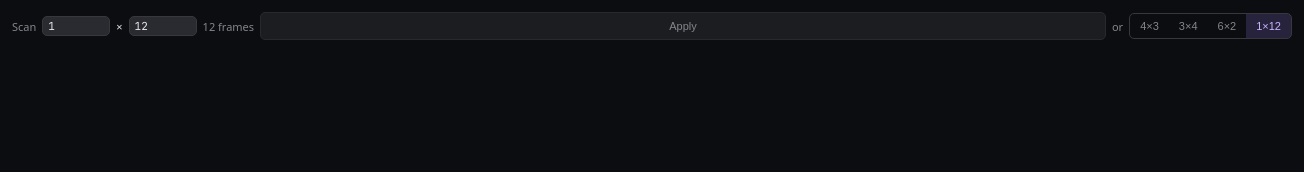
it: FourDScanShape › refuses — and explains — a shape that is not the frame count
Replace the text in the number field named "Scan rows" with "5" at (76, 26), box x1=42 y1=16 x2=110 y2=36
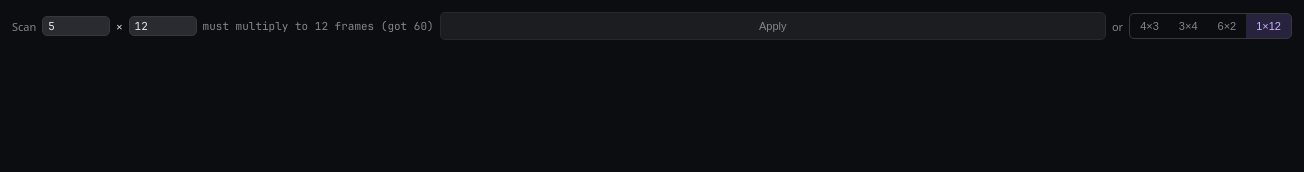
Replace the text in the number field named "Scan columns" with "3" at (163, 26), box x1=129 y1=16 x2=197 y2=36
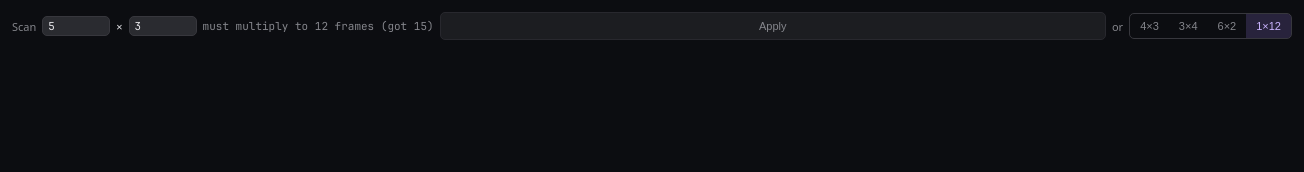
Expected: the button "Apply" is disabled, x1=440 y1=12 x2=1106 y2=40
Expected: the text "must multiply to 12 frames (got 15)" is shown, x1=203 y1=19 x2=434 y2=33
